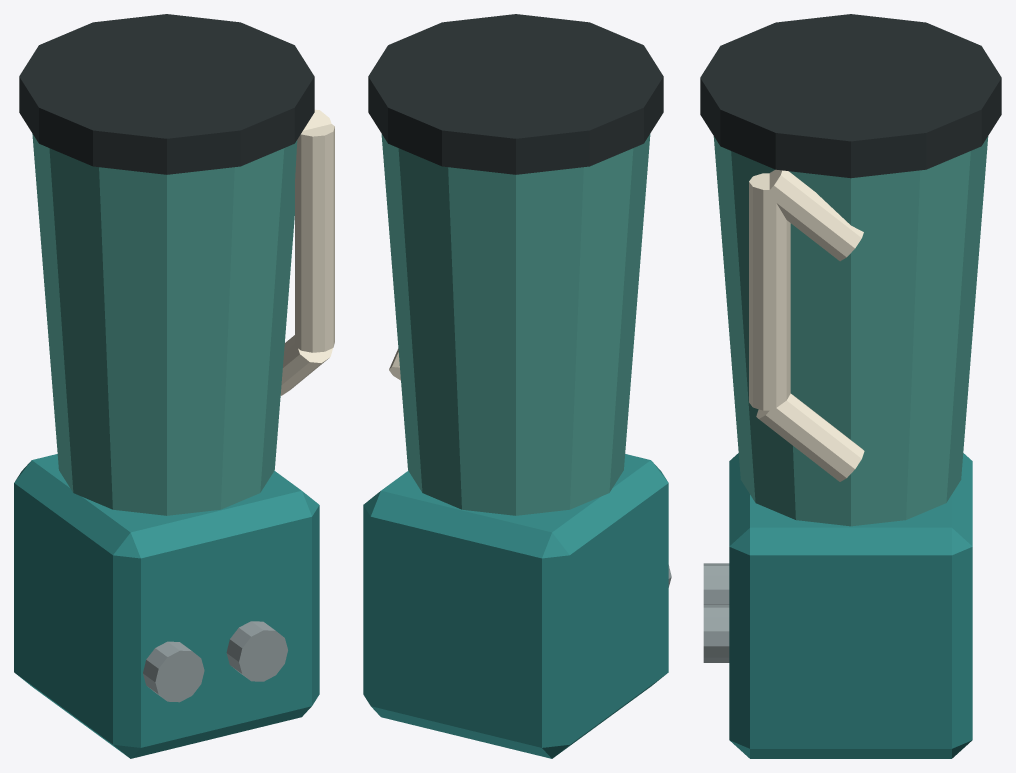
Rendered from Blender.glb.
3 views of the same model, side by side, from view 1: azimuth 30°, elevation 25°; view 2: azimuth 150°, elevation 25°; view 3: azimuth 270°, elevation 25° (orthographic). The views are drawn at different scales.
Visible parts, largest first — view 1: Blender; view 2: Blender; view 3: Blender.
Boxes of the visible parts, box(x1,y1,x2,y2) form: Blender: box(14, 14, 334, 758); Blender: box(363, 14, 671, 758); Blender: box(700, 14, 1001, 758).
Bounding box in the file's own units: 0.26 × 0.6075 × 0.26.
